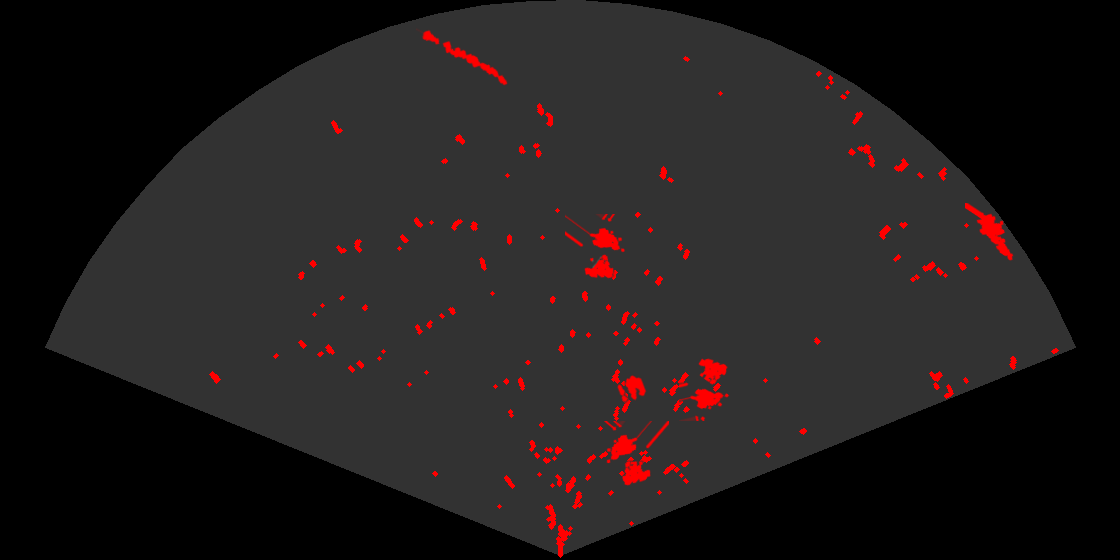ball: (616, 373, 648, 404)
cage: (602, 421, 669, 487), (565, 214, 626, 280), (679, 357, 731, 421)
chain: (416, 27, 509, 87)
frogman: (965, 203, 1015, 262)
